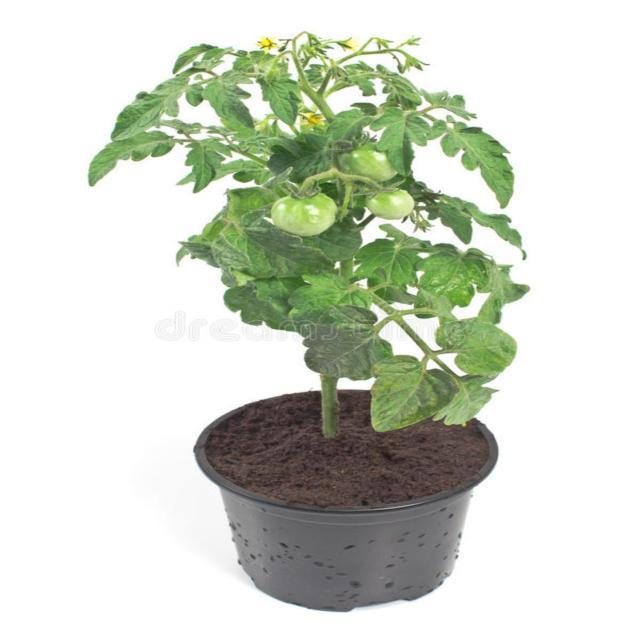plant: (88, 32, 528, 437), (313, 231, 317, 234)
